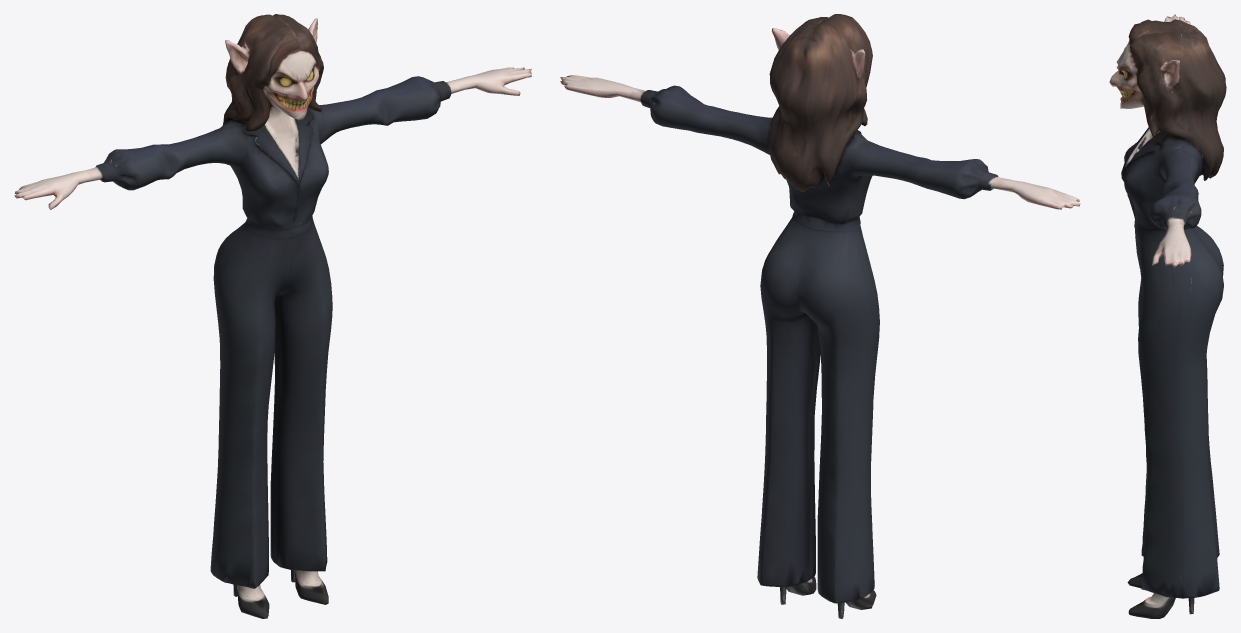
File: CalisanKadin2Canavar.fbx
3 renders of one model, left to right at view 1: azimuth 30°, elevation 25°; view 2: azimuth 150°, elevation 25°; view 3: azimuth 270°, elevation 25°, orthographic.
Visible parts, largest first — view 1: Mesh_0; view 2: Mesh_0; view 3: Mesh_0.
Boxes of the visible parts, box(x1,y1,x2,y2) form: Mesh_0: box(14, 14, 531, 618); Mesh_0: box(560, 14, 1080, 618); Mesh_0: box(1109, 14, 1226, 618).
Size of the model in its own units: 179 by 191 by 35.22.
Materials: 1 (1 with a texture image).
